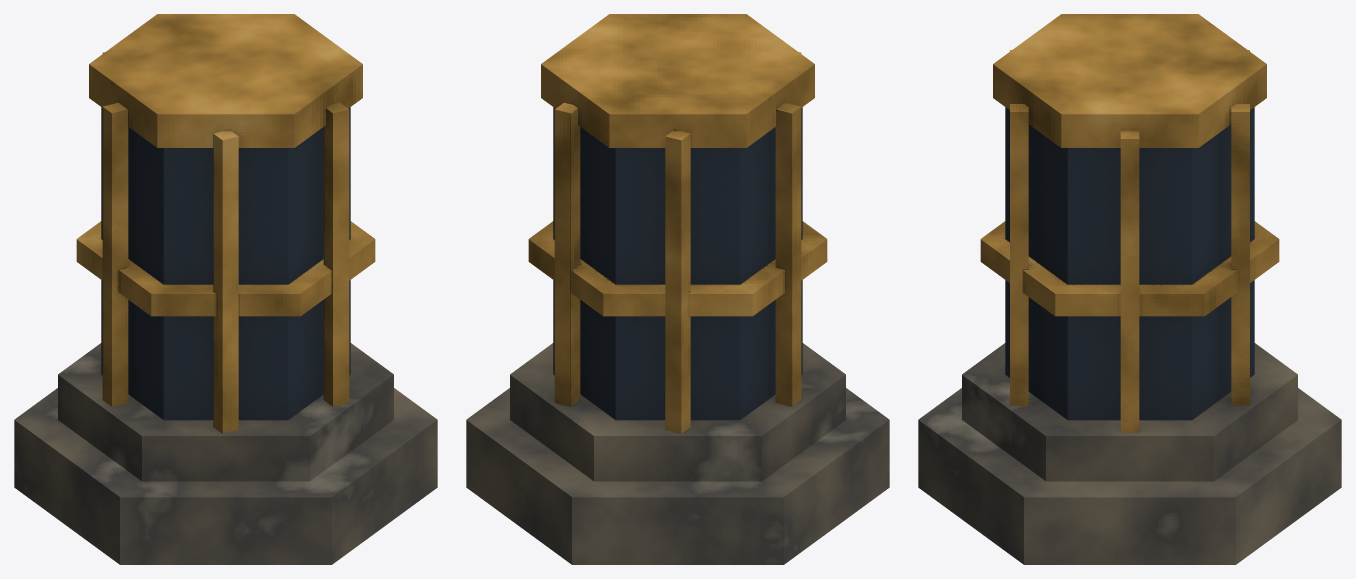
File: relic_cache_vault.glb
3 renders of one model, left to right at view 1: azimuth 30°, elevation 25°; view 2: azimuth 150°, elevation 25°; view 3: azimuth 270°, elevation 25°, orthographic.
Parts seen in each view (by area): view 1: relic_cache_vault; view 2: relic_cache_vault; view 3: relic_cache_vault.
Boxes of the visible parts, box(x1,y1,x2,y2) form: relic_cache_vault: box(14, 14, 437, 564); relic_cache_vault: box(466, 14, 889, 564); relic_cache_vault: box(918, 14, 1341, 564).
Size of the model in its own units: 0.5889 by 0.75 by 0.68.
Materials: 4 (4 with a texture image).
